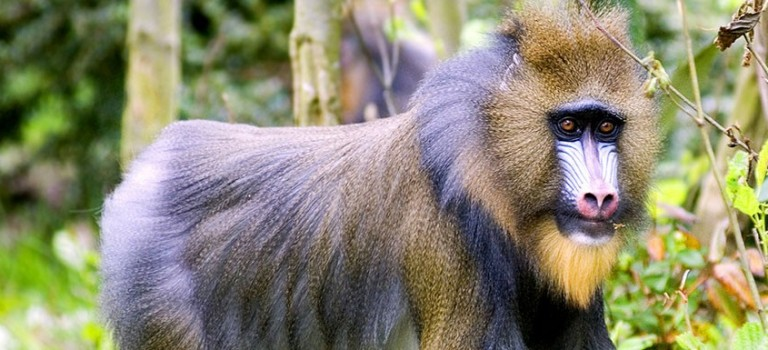Mandrill: (137, 44, 662, 340)
